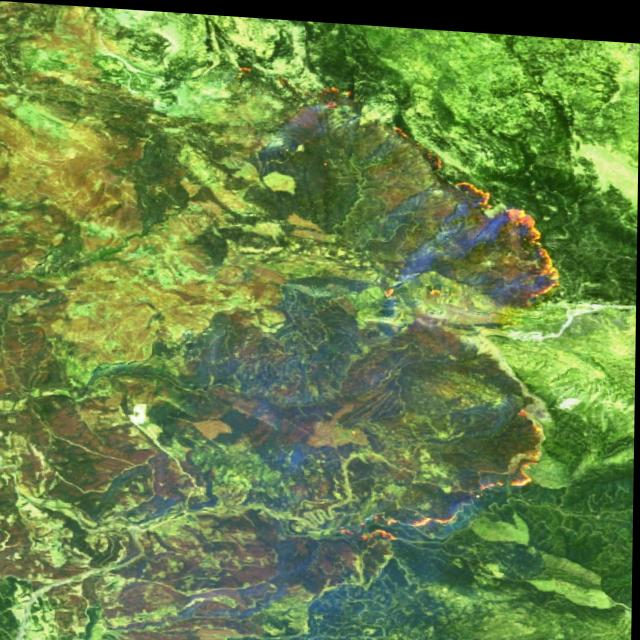fire: (369, 385, 558, 540), (423, 164, 576, 302)
